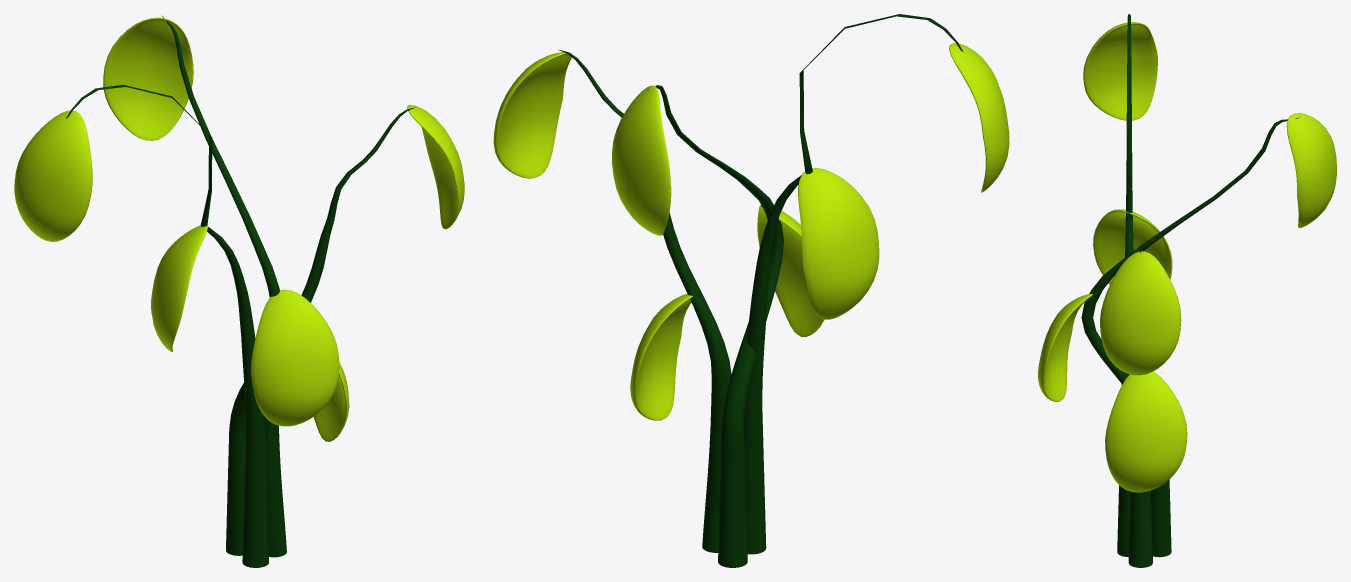
The model's file is Plant 3 Stage 1.fbx.
3 views of the same model, side by side, from view 1: azimuth 30°, elevation 25°; view 2: azimuth 150°, elevation 25°; view 3: azimuth 270°, elevation 25° (orthographic). The views are drawn at different scales.
Parts seen in each view (by area): view 1: pasted__pasted__pSphere2 (×3), pasted__pCone1 (×2), pSphere2, pCone1, pasted__pSphere2, pasted__pasted__pasted__pSphere2; view 2: pasted__pasted__pSphere2 (×3), pasted__pCone1 (×2), pasted__pSphere2, pCone1, pasted__pasted__pasted__pSphere2, pSphere2; view 3: pasted__pasted__pSphere2 (×3), pasted__pasted__pasted__pSphere2, pasted__pCone1 (×2), pSphere2, pasted__pSphere2, pCone1.
Boxes of the visible parts, x1,y1,x2,y2 form: pasted__pasted__pSphere2 (×3): (103,17,464,426); pasted__pCone1 (×2): (162,16,415,557); pSphere2: (14,110,92,241); pCone1: (66,84,268,567); pasted__pSphere2: (151,225,207,351); pasted__pasted__pasted__pSphere2: (313,362,349,441); pasted__pasted__pSphere2 (×3): (493,52,824,336); pasted__pCone1 (×2): (559,50,783,567); pasted__pSphere2: (798,168,879,319); pCone1: (744,14,963,554); pasted__pasted__pasted__pSphere2: (630,294,693,420); pSphere2: (949,43,1009,192); pasted__pasted__pSphere2 (×3): (1038,113,1336,401); pasted__pasted__pasted__pSphere2: (1105,371,1187,492); pasted__pCone1 (×2): (1081,117,1300,567); pSphere2: (1083,22,1157,120); pasted__pSphere2: (1093,209,1172,284); pCone1: (1117,14,1133,557).
Bounding box in the file's own units: 3.79 × 4.23 × 2.46.
